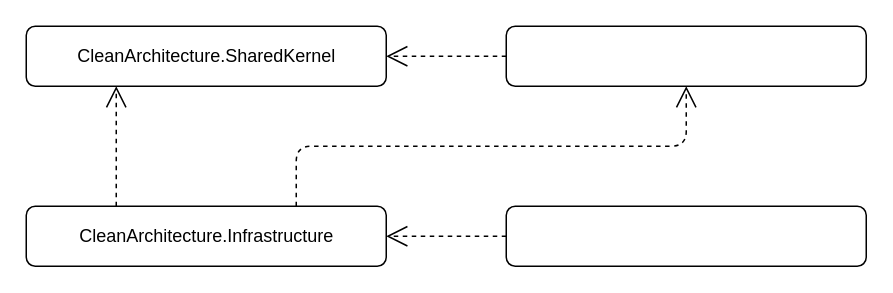
This 893x293 diagram has some shape labels left out. The centre of each missing label's shape, as x and y in pixels:
"CleanArchitecture.Core" belongs at point (685, 55).
"CleanArchitecture.Web" belongs at point (685, 235).
